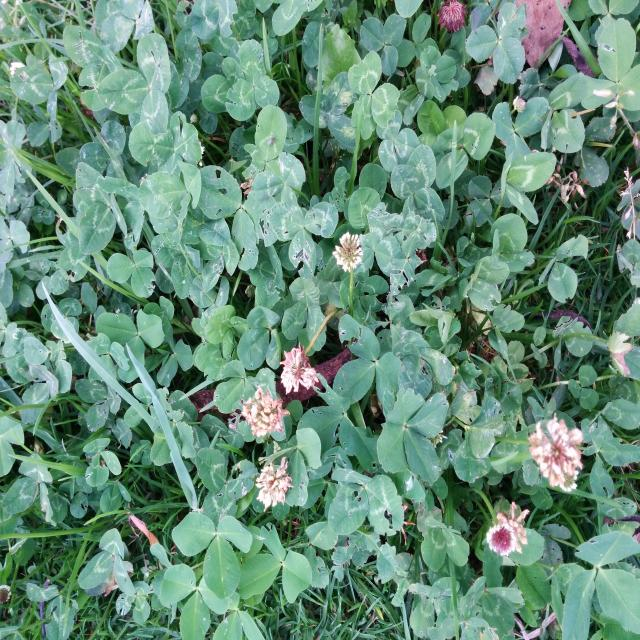Four Leaf Clover: (378, 387, 449, 486)
